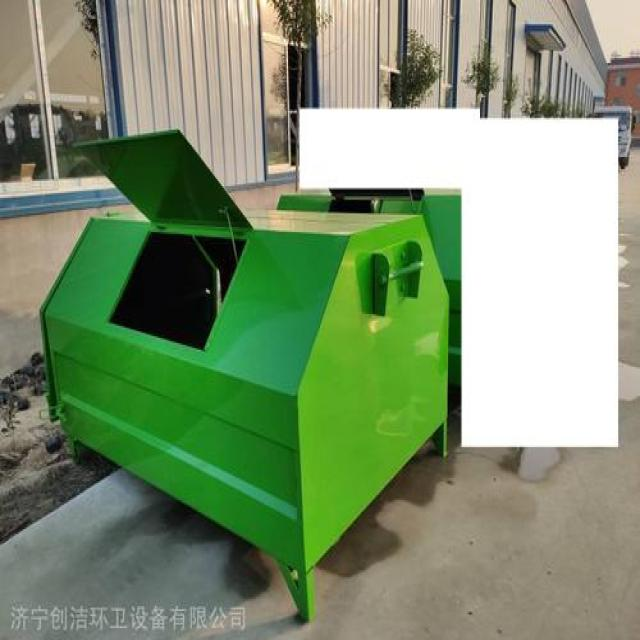garbage_bin: (37, 208, 448, 618)
